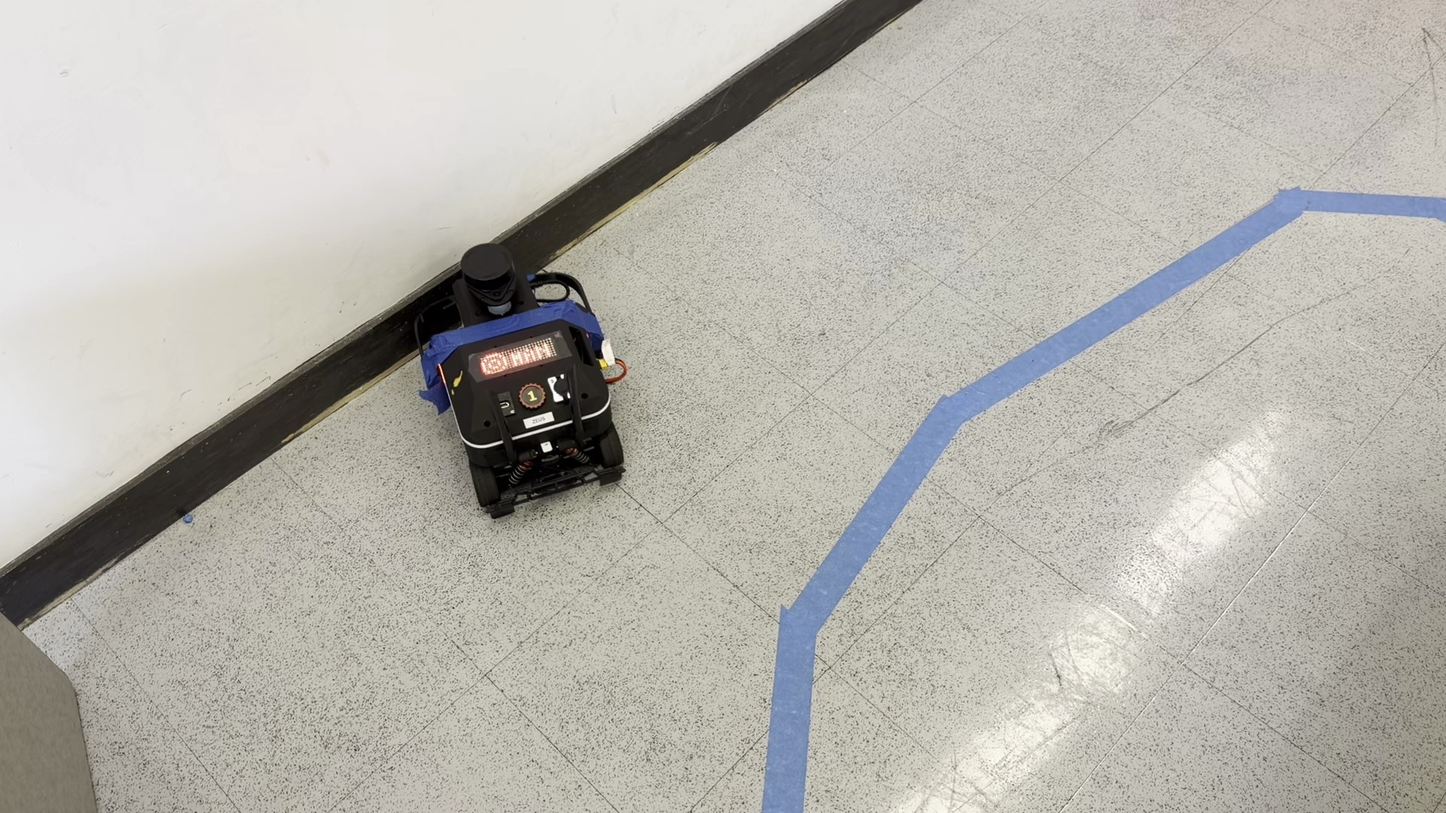racecar: (414, 251, 627, 516)
